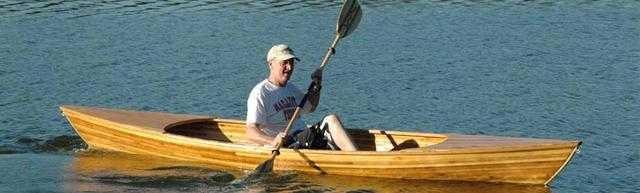kayak: (60, 106, 584, 183)
